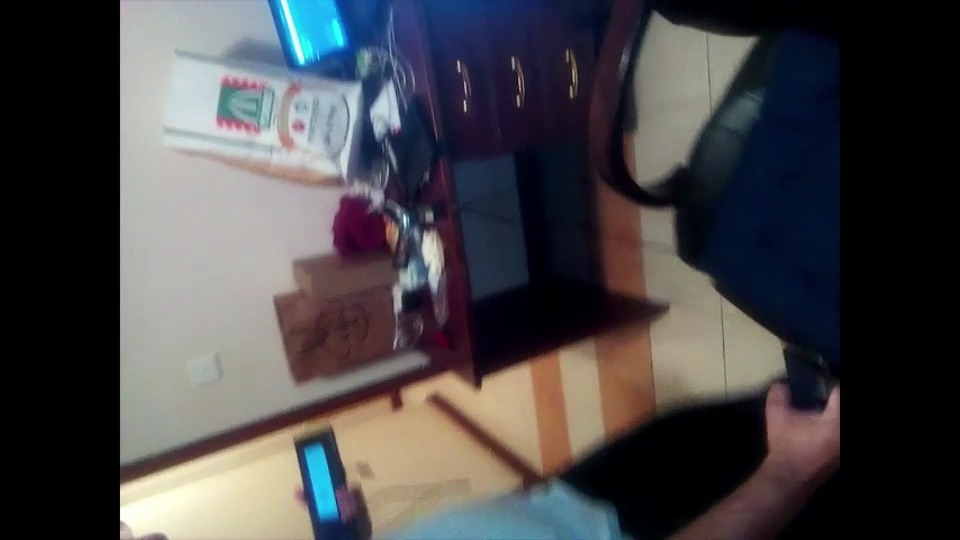maize_flour_green_label: (158, 50, 363, 185)
